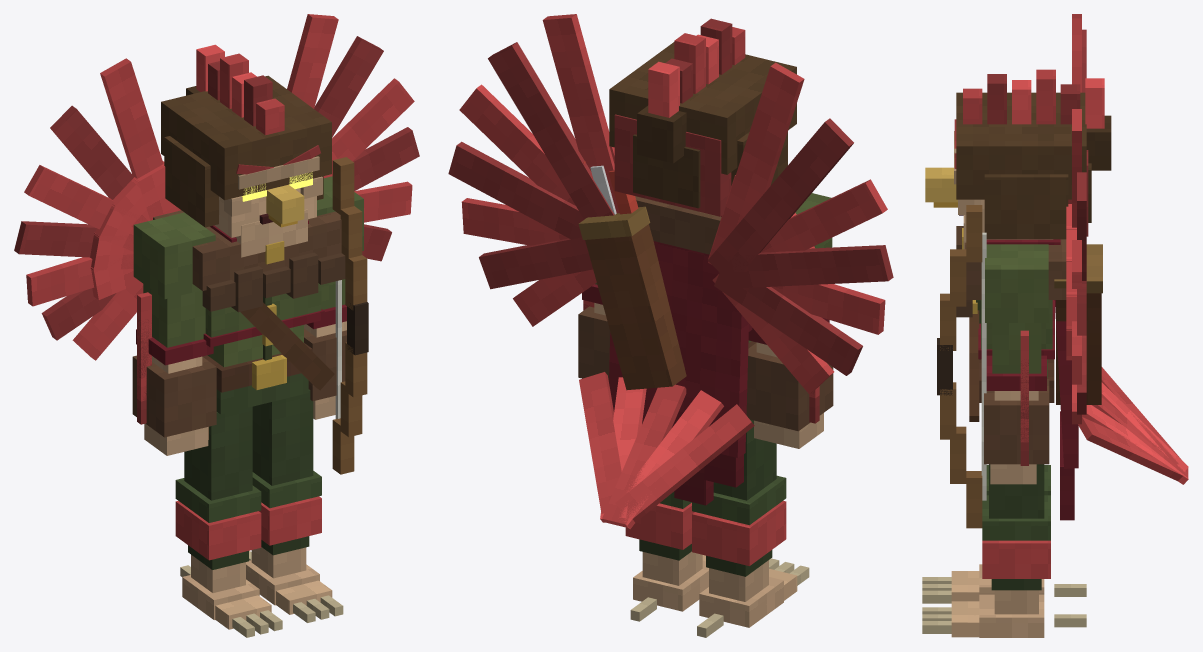
File: harpy_chasseur_v2.glb
3 renders of one model, left to right at view 1: azimuth 30°, elevation 25°; view 2: azimuth 150°, elevation 25°; view 3: azimuth 270°, elevation 25°, orthographic. The views are drawn at different scales.
Visible parts, largest first — view 1: Torso, Head, ArmR, LegR, LegL, HandL, ArmL, Root; view 2: Torso, Head, LegR, ArmR, LegL, ArmL, Root; view 3: Torso, Head, ArmL, LegL, HandL, Root, LegR.
Boxes of the visible parts, x1,y1,x2,y2 form: Torso: [14, 14, 419, 439]; Head: [161, 44, 331, 257]; ArmR: [132, 212, 216, 455]; LegR: [175, 406, 271, 629]; LegL: [246, 389, 332, 614]; HandL: [332, 157, 368, 474]; ArmL: [304, 176, 363, 419]; Root: [180, 550, 343, 637]; Torso: [448, 14, 893, 529]; Head: [609, 18, 796, 216]; LegR: [692, 419, 797, 627]; ArmR: [746, 193, 833, 448]; LegL: [625, 491, 708, 611]; ArmL: [578, 283, 610, 381]; Root: [630, 558, 809, 637]; Torso: [956, 14, 1188, 520]; Head: [925, 69, 1111, 249]; ArmL: [984, 244, 1049, 484]; LegL: [951, 464, 1050, 637]; HandL: [937, 205, 986, 528]; Root: [922, 577, 1086, 633]; LegR: [951, 465, 1050, 601].
Bounding box in the file's own units: 1.46 × 1.85 × 0.8178.
Materials: 44 (44 with a texture image).
